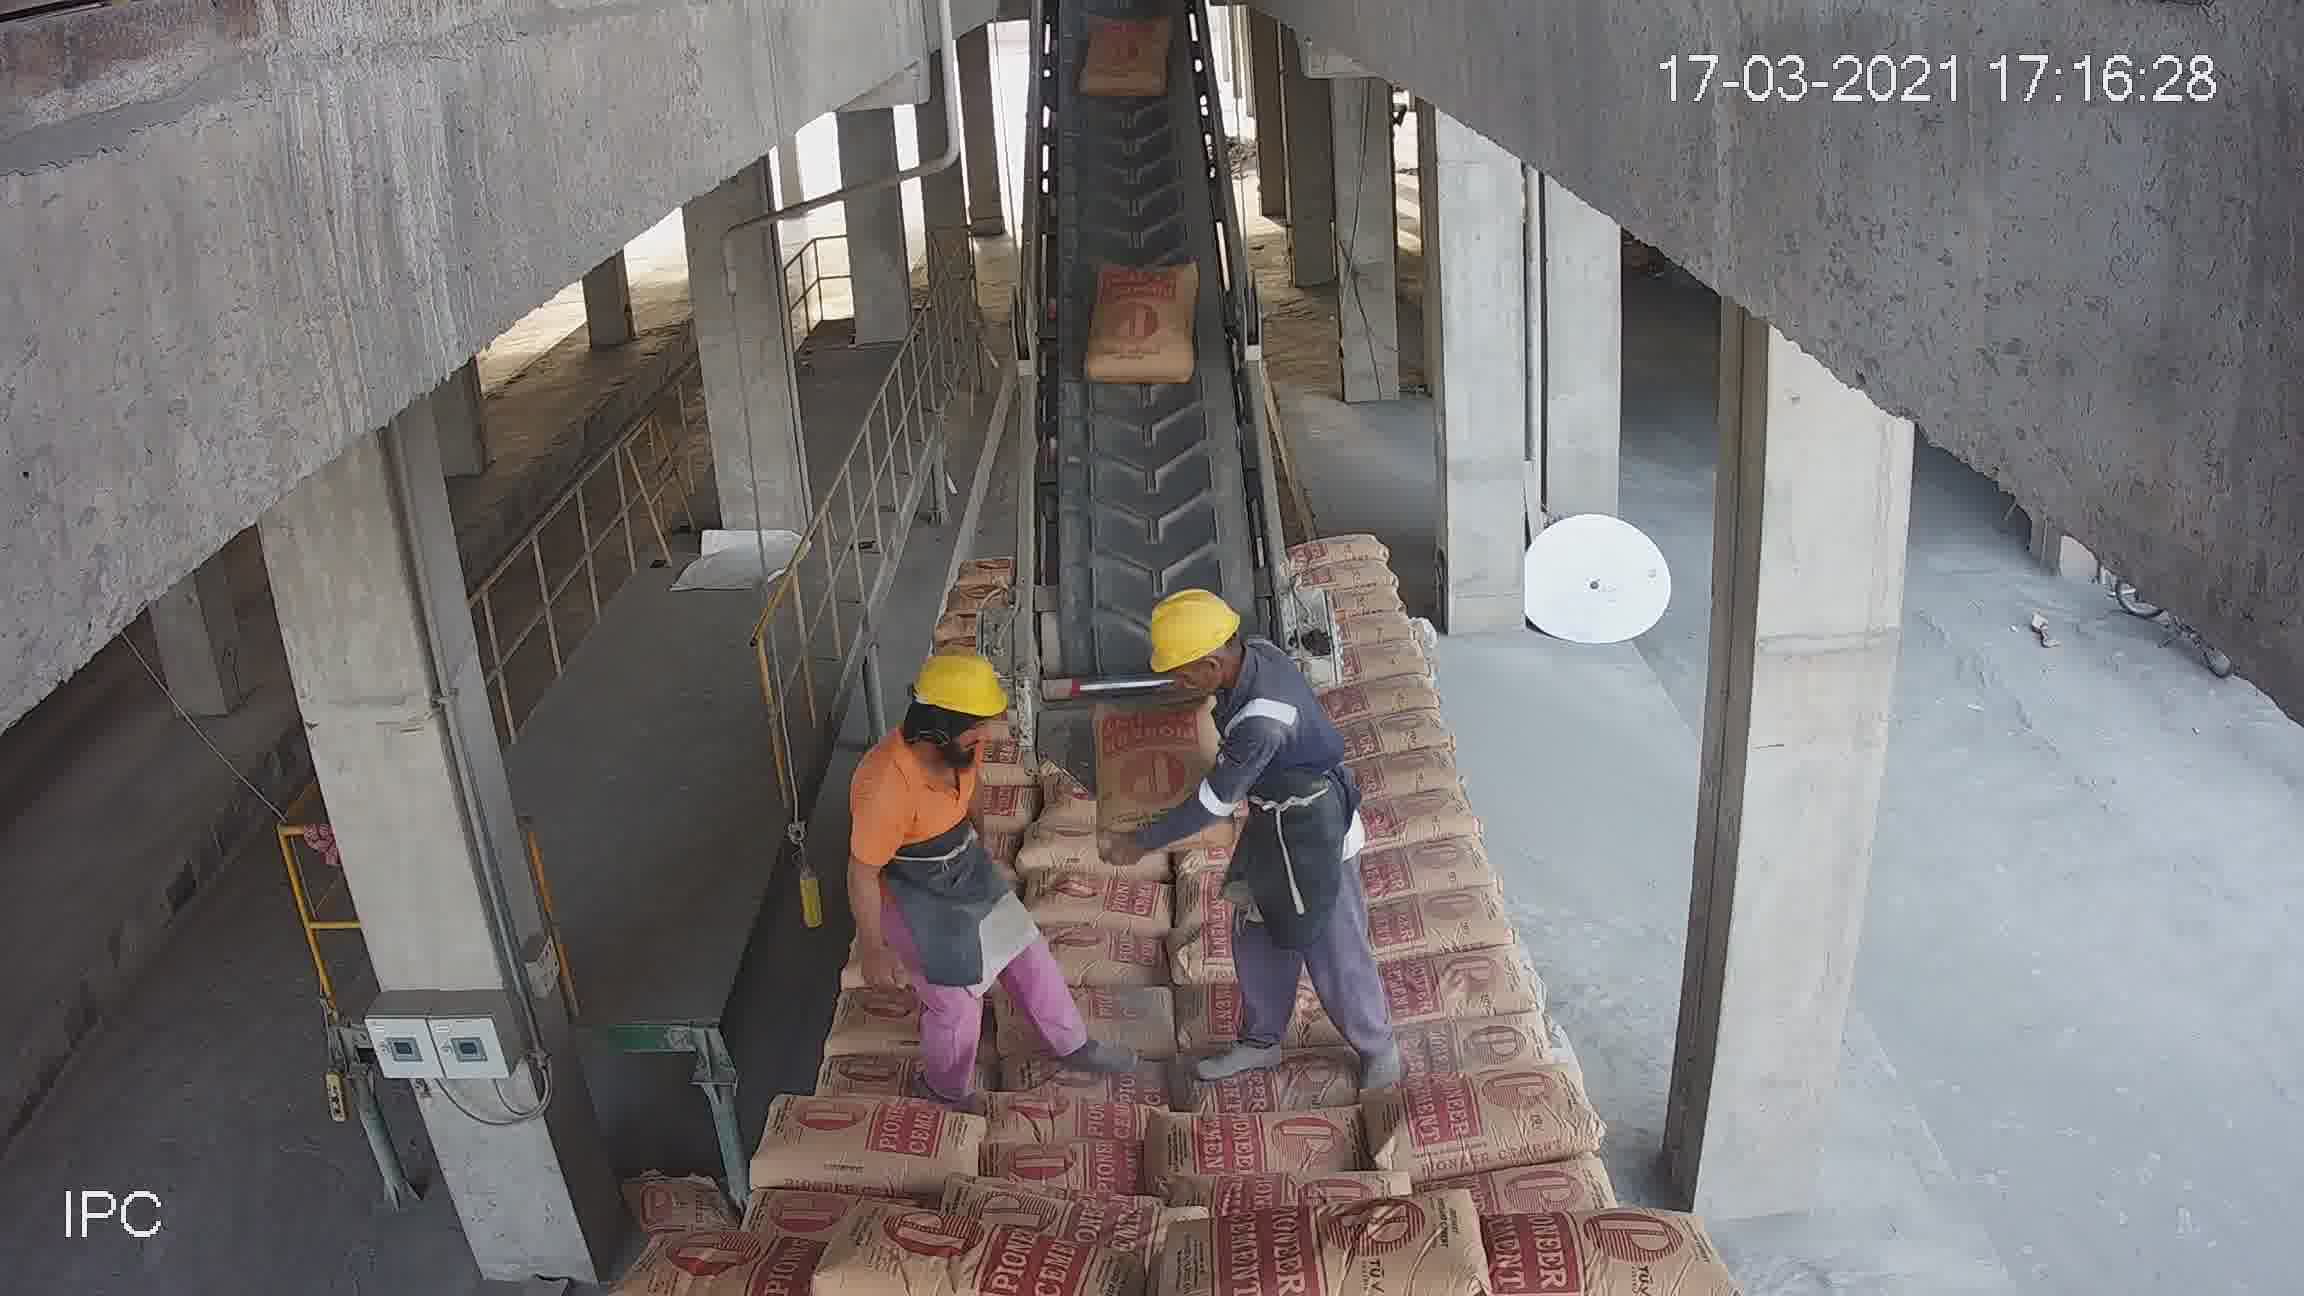bag: (1084, 696, 1215, 851), (1089, 263, 1211, 381), (1074, 24, 1177, 100)
bag_h: (1190, 1171, 1548, 1294), (1350, 1060, 1605, 1188), (1427, 1196, 1707, 1294), (790, 1215, 1130, 1294), (752, 1097, 999, 1195), (1152, 1105, 1378, 1199), (1174, 1036, 1367, 1122), (635, 1225, 853, 1294), (1002, 1033, 1192, 1112), (994, 973, 1184, 1052), (1381, 946, 1535, 1036), (1394, 1005, 1556, 1079), (994, 1141, 1166, 1209), (1358, 885, 1514, 956), (1351, 836, 1503, 904), (1027, 861, 1171, 930), (812, 1040, 937, 1109), (1356, 779, 1476, 850), (1331, 699, 1451, 763), (1052, 923, 1166, 987), (1320, 658, 1435, 720), (1351, 737, 1465, 794), (820, 987, 916, 1052), (1301, 555, 1402, 597), (1287, 532, 1396, 568)
belt: (1010, 11, 1294, 755)
